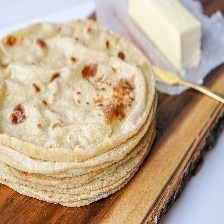roti: (0, 15, 162, 209)
